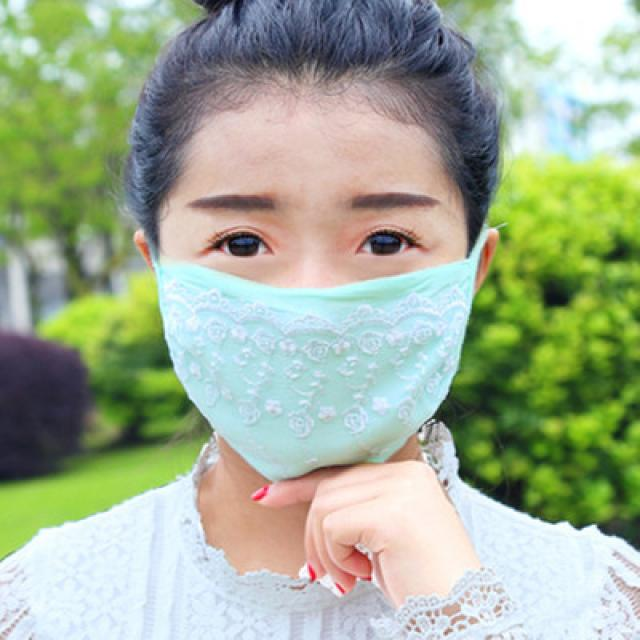mask: (160, 87, 467, 479)
